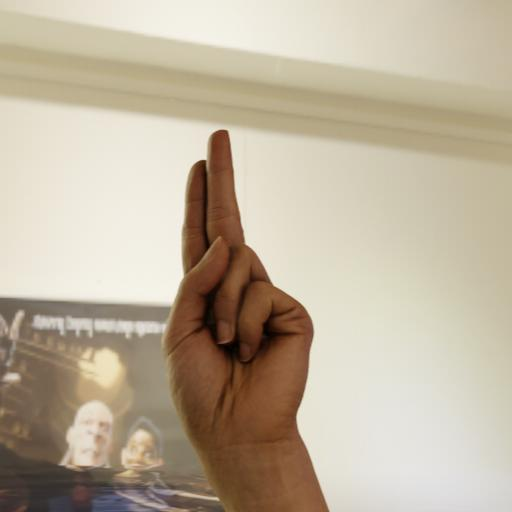U: (158, 127, 320, 440)
